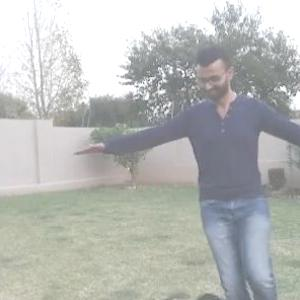land: (128, 66, 299, 293)
